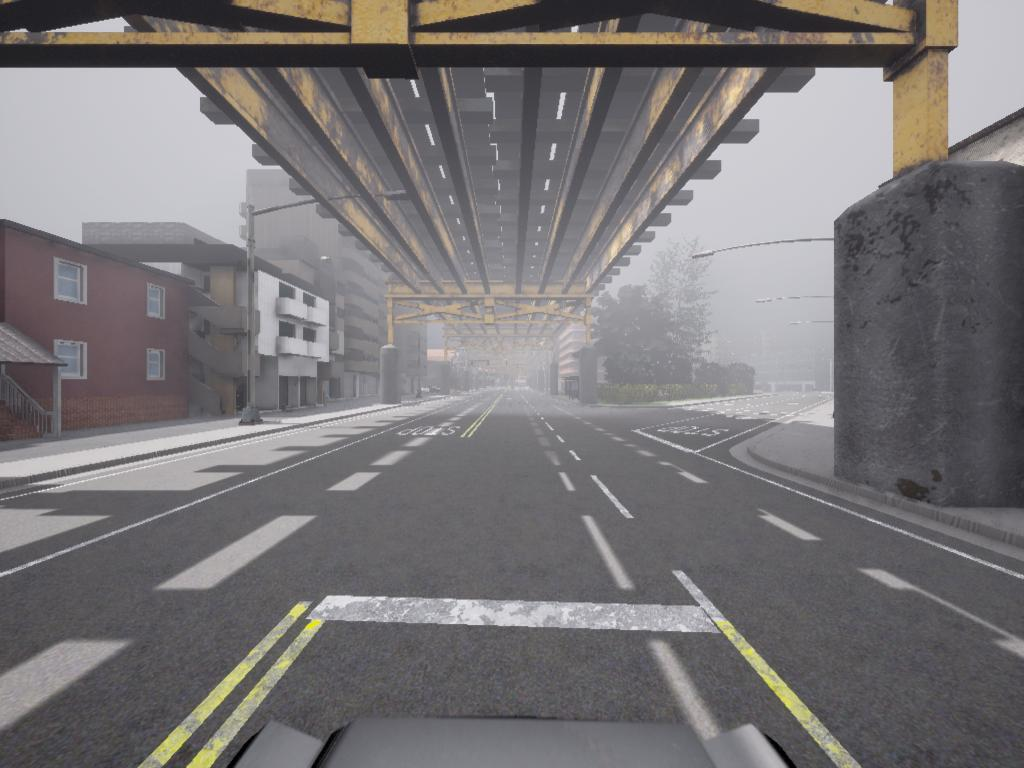traffic_light: (471, 361, 475, 367), (487, 361, 491, 367), (531, 365, 533, 372)
